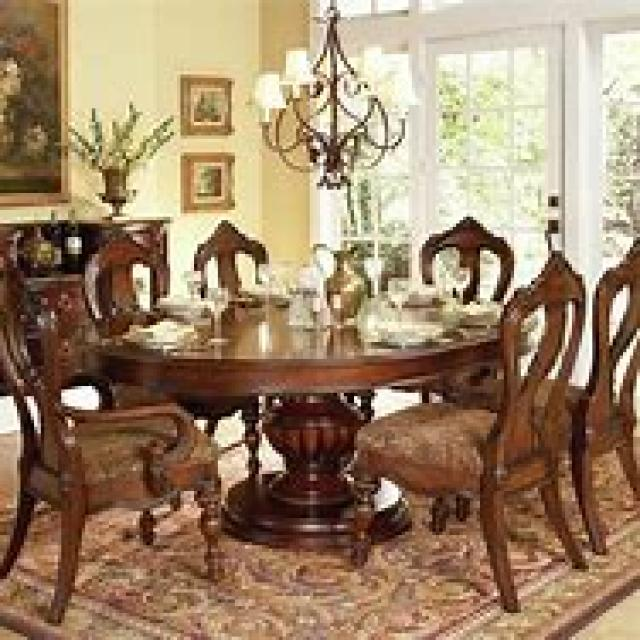chair: (0, 224, 225, 623), (344, 247, 589, 613), (442, 234, 636, 555)
table: (92, 292, 541, 556)
